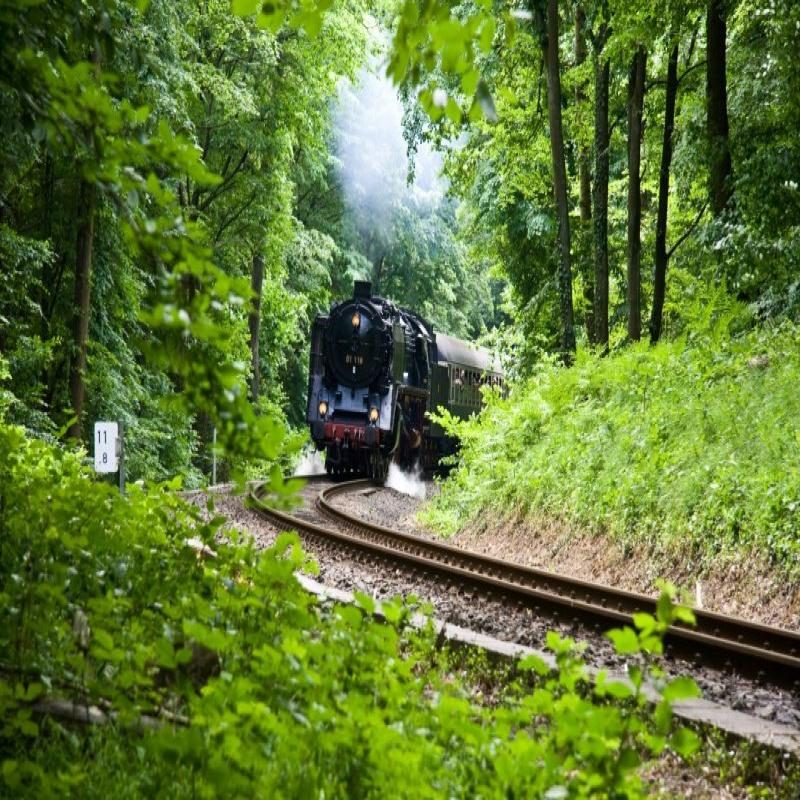train: (310, 271, 420, 484)
